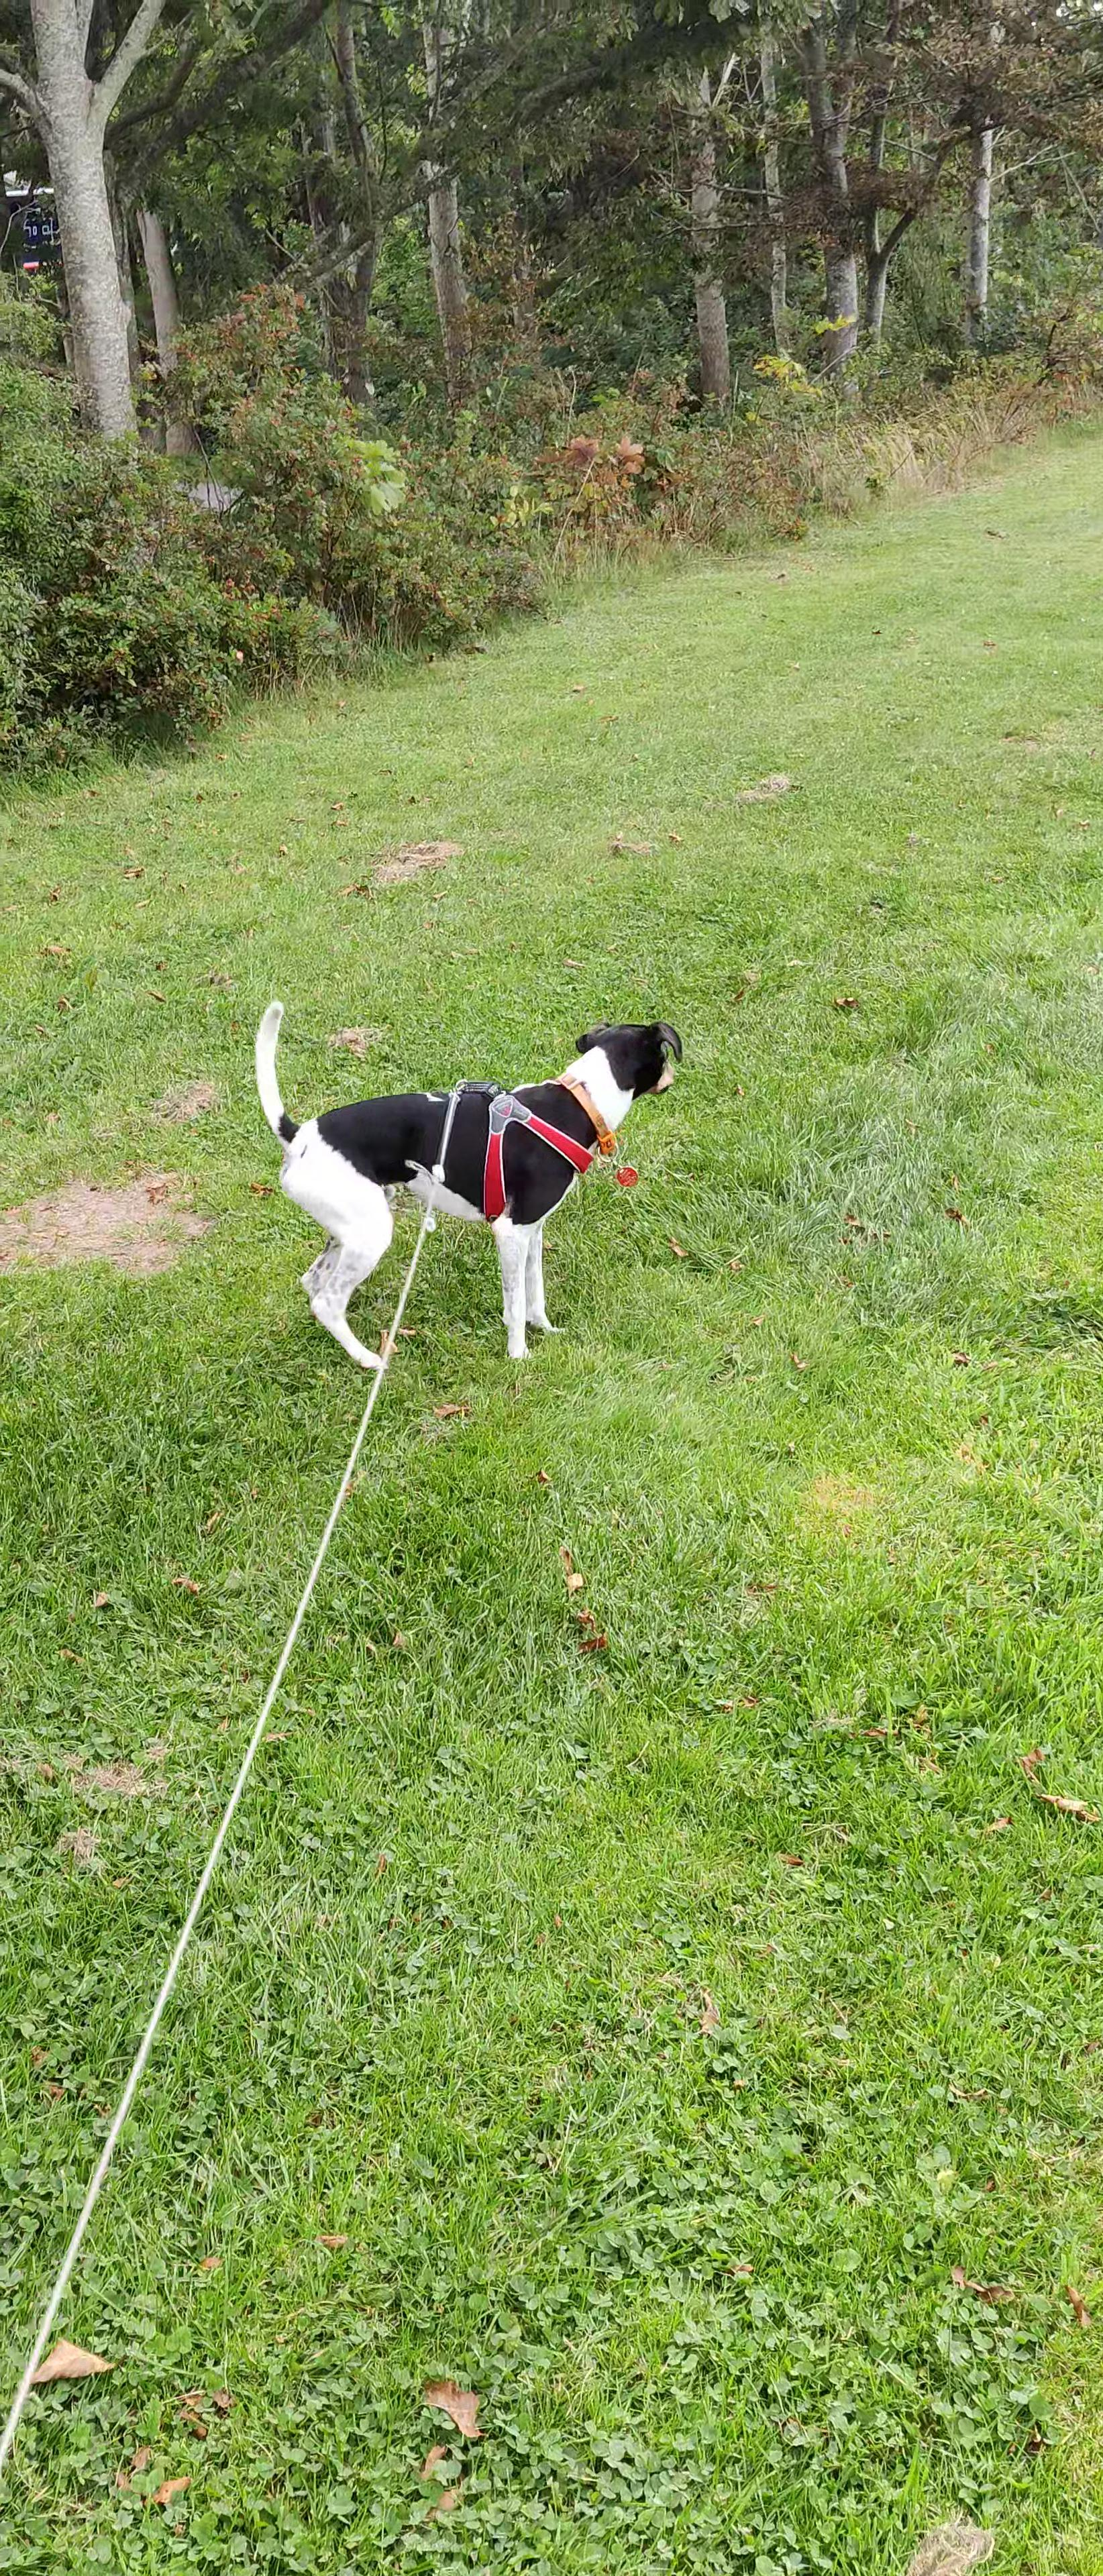Dog: (245, 996, 690, 1373)
